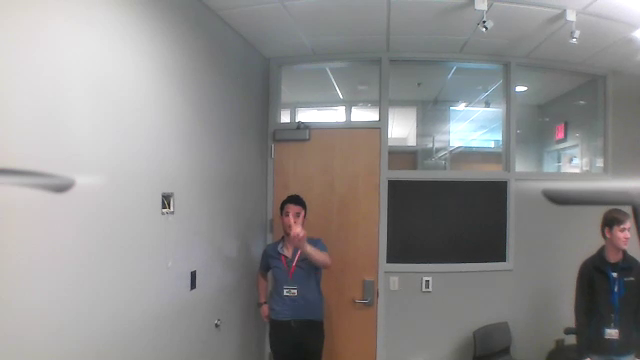peace: (280, 208, 313, 251)
